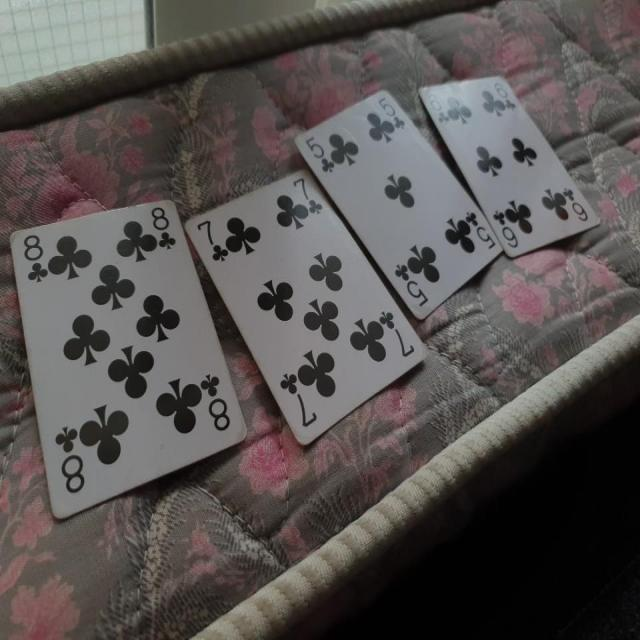5 Trefoils: (291, 85, 506, 316)
6 Trefoils: (417, 73, 600, 260)
7 Trefoils: (183, 166, 428, 447)
8 Trefoils: (8, 198, 247, 522)
